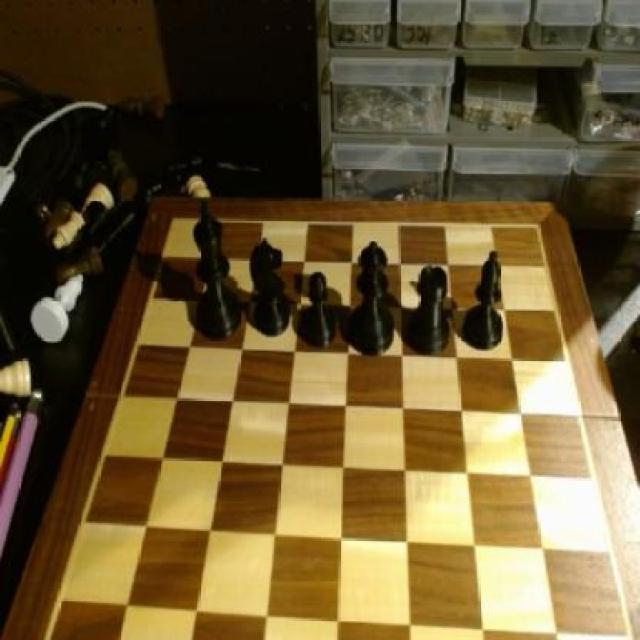bishop: (464, 243, 510, 358)
black-bishop: (189, 196, 246, 346)
black-king: (244, 238, 296, 338)
black-knight: (298, 266, 341, 352)
black-pawn: (350, 239, 402, 363)
black-queen: (408, 260, 458, 363)
